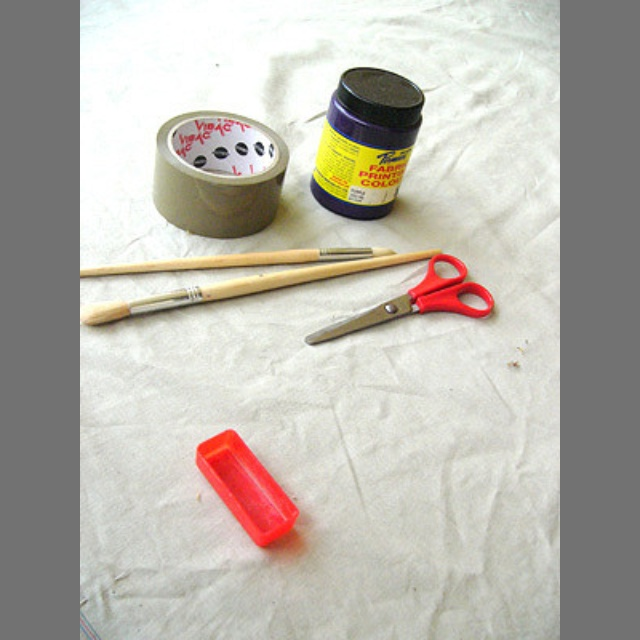scissor: (307, 251, 494, 346)
